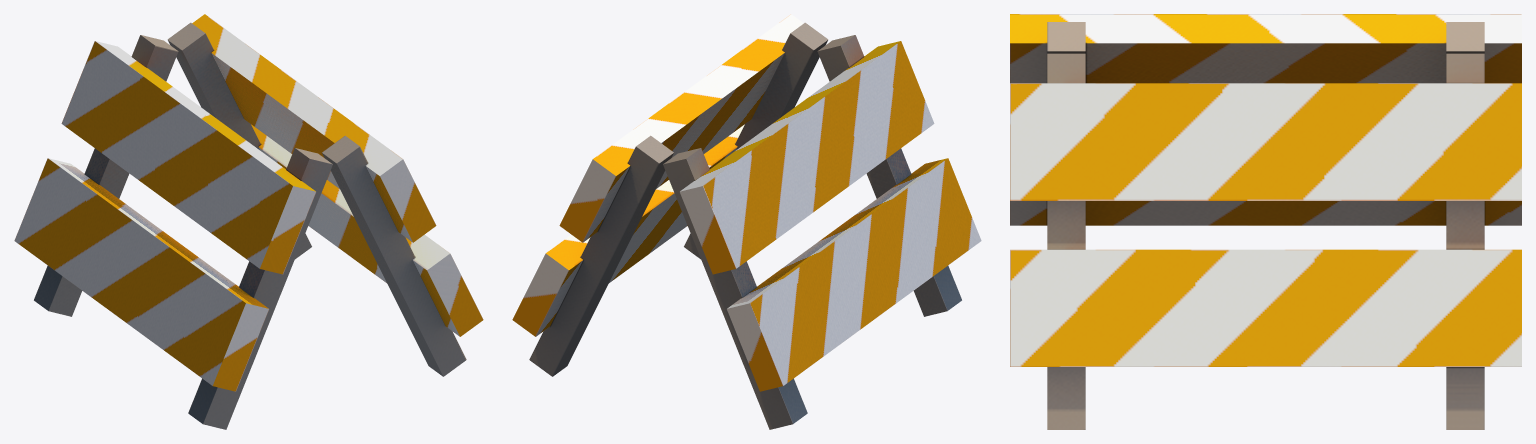
The model's file is barrier.gltf.
The picture shows the model from 3 angles, left to right: view 1: azimuth 30°, elevation 25°; view 2: azimuth 150°, elevation 25°; view 3: azimuth 270°, elevation 25°; orthographic projection. The views are drawn at different scales.
Parts seen in each view (by area): view 1: Barriern_1; view 2: Barriern_1; view 3: Barriern_1.
Part boxes in pixels (bbox=[...]): Barriern_1: bbox=[14, 14, 483, 429]; Barriern_1: bbox=[512, 14, 981, 429]; Barriern_1: bbox=[1010, 14, 1521, 429].
Size of the model in its own units: 1.22 by 1.08 by 1.54.
1 material, 1 textured.
